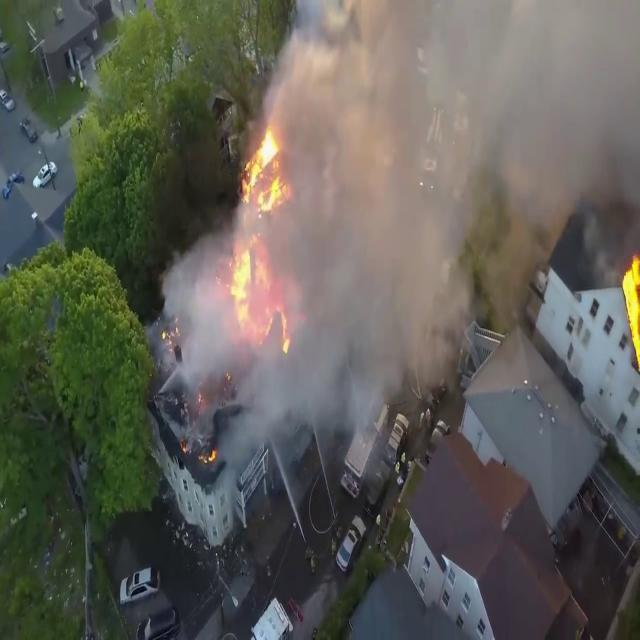Fire: (224, 121, 296, 351), (620, 246, 640, 376)
Smoke: (170, 0, 640, 438)
